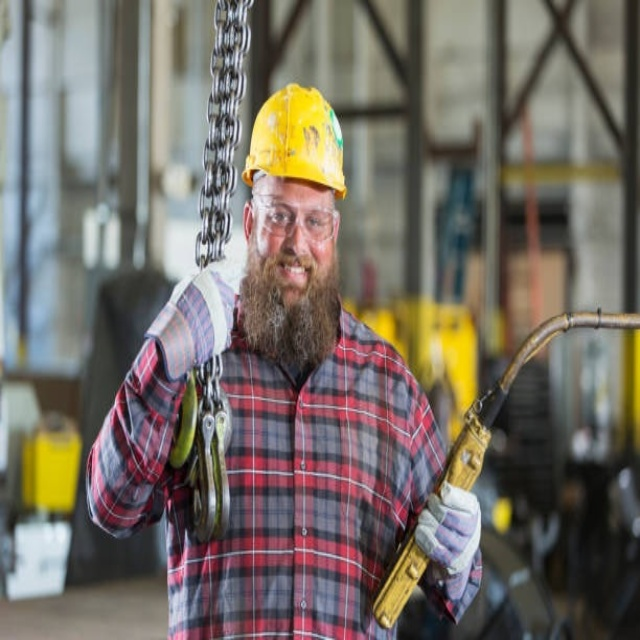Gafas: (249, 190, 342, 245)
Guantes: (160, 264, 233, 373), (414, 481, 482, 579)
Sin_mascara: (269, 256, 325, 300)
